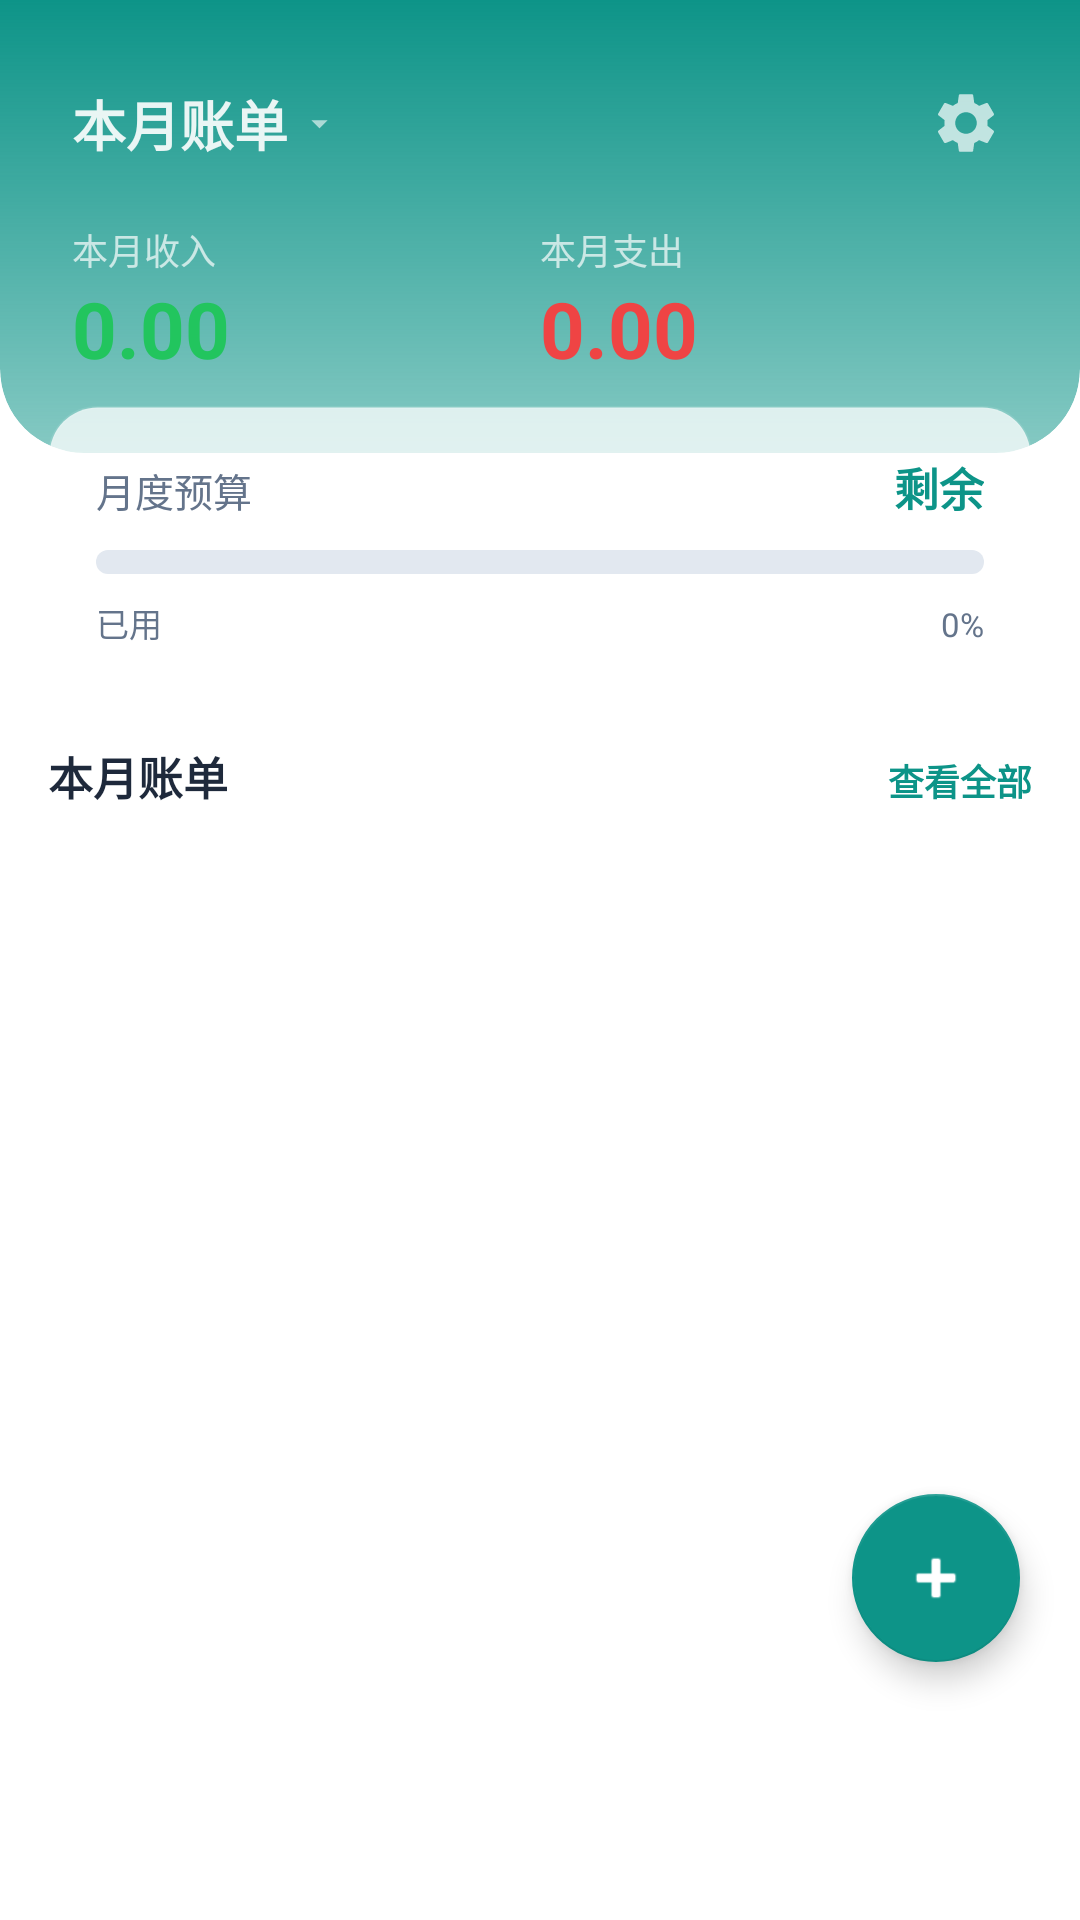

Named icons in this screenshot (1080 × 1920) and their bounding boxes, box=[x1, y1, x2, y2]:
add: box=[852, 1494, 1020, 1662]
设置: box=[938, 94, 994, 152]
